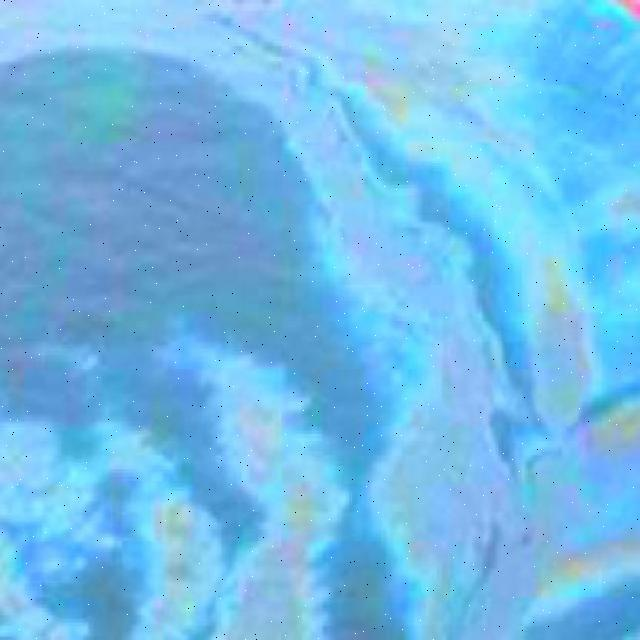oil: (1, 354, 640, 634), (248, 93, 636, 350), (6, 2, 640, 84)
